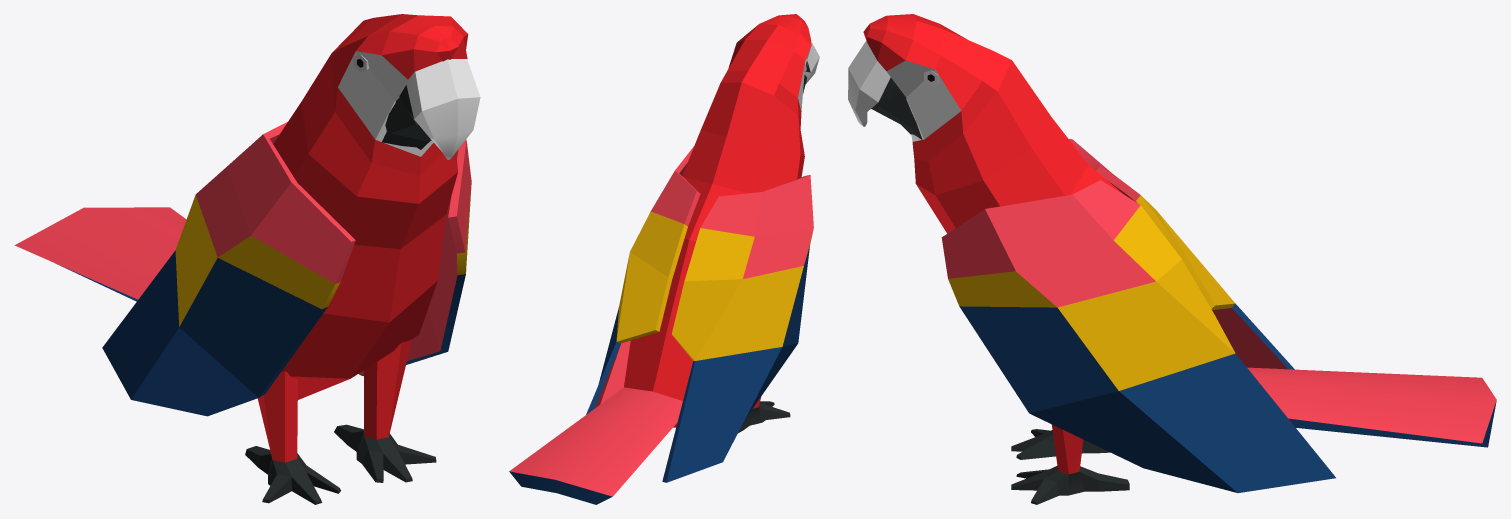
Rendered from Mesh_Parrot.obj.
3 views of the same model, side by side, from view 1: azimuth 30°, elevation 25°; view 2: azimuth 150°, elevation 25°; view 3: azimuth 270°, elevation 25° (orthographic). The views are drawn at different scales.
Visible parts, largest first — view 1: Geo_Parrot; view 2: Geo_Parrot; view 3: Geo_Parrot.
Boxes of the visible parts, bbox=[...] form: Geo_Parrot: bbox=[14, 14, 480, 504]; Geo_Parrot: bbox=[509, 14, 819, 504]; Geo_Parrot: bbox=[848, 14, 1496, 504].
Bounding box in the file's own units: 54.42 × 110 × 144.
1 material, 1 textured.
